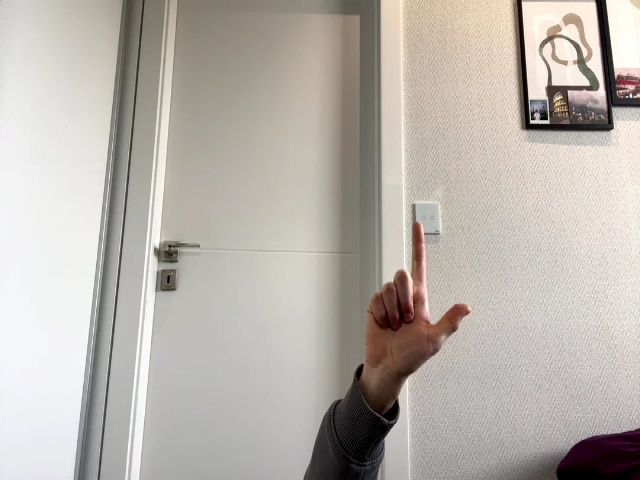L: (365, 223, 471, 398)
